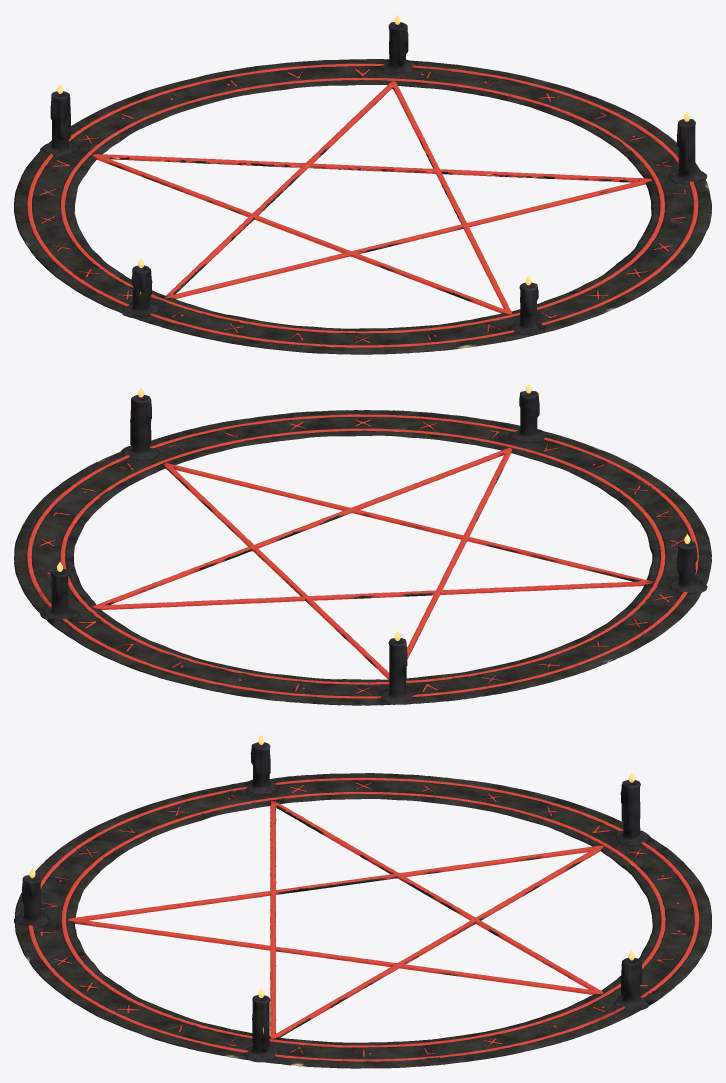
File: ritual_circle.glb
3 renders of one model, top to bottom at view 1: azimuth 30°, elevation 25°; view 2: azimuth 150°, elevation 25°; view 3: azimuth 270°, elevation 25°, orthographic.
Visible parts, largest first — view 1: Ash_Ring, Ritual_Lines, Circle_Wax; view 2: Ash_Ring, Ritual_Lines, Circle_Wax; view 3: Ash_Ring, Ritual_Lines, Circle_Wax.
Part boxes in pixels (x1,y1,x2,y2): Ash_Ring: (14, 59, 711, 354); Ritual_Lines: (27, 63, 698, 347); Circle_Wax: (40, 22, 707, 335); Ash_Ring: (14, 410, 711, 705); Ritual_Lines: (27, 414, 698, 698); Circle_Wax: (40, 391, 707, 704); Ash_Ring: (15, 773, 711, 1068); Ritual_Lines: (28, 777, 699, 1061); Circle_Wax: (14, 742, 650, 1062).
Bounding box in the file's own units: 3.35 × 0.3595 × 3.35.
1 material, 1 textured.
